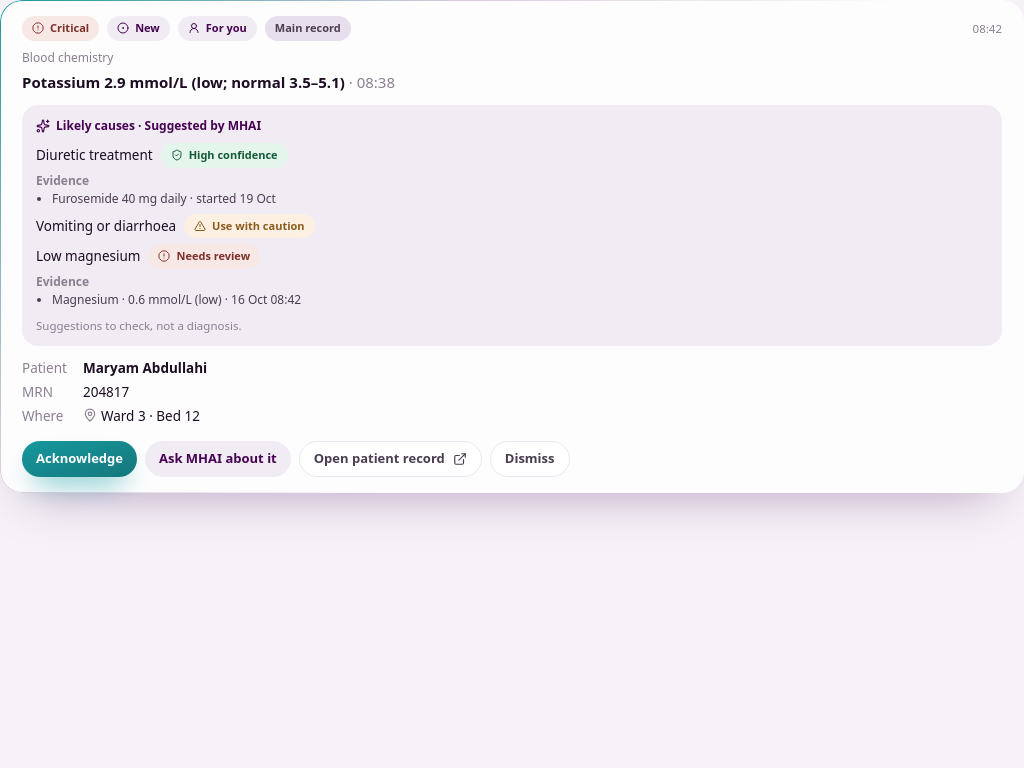
Scenario: AlertCard › acknowledges with one key, then says who and moves the focus there (R6)
Click the button "Acknowledge" at (80, 458), box [22, 440, 137, 476]
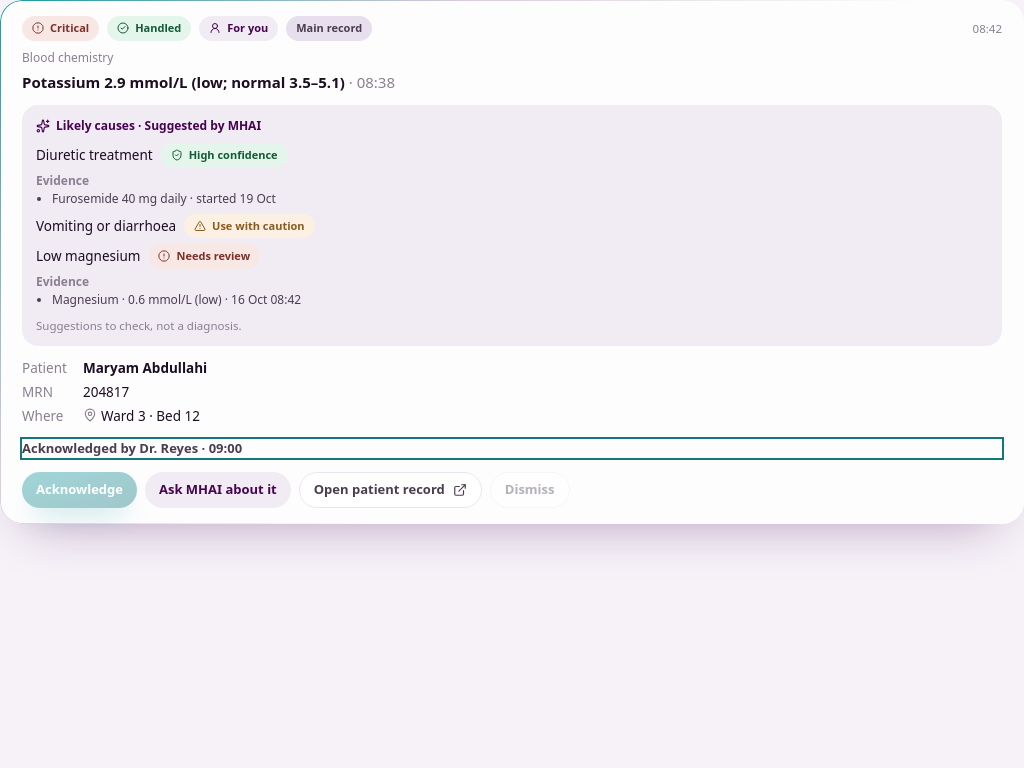
Result: the text "Handled" is shown at [107, 16, 191, 40]
Result: the button "Acknowledge" is disabled at [22, 472, 137, 508]
Result: the button "Dismiss" is disabled at [490, 472, 570, 508]
